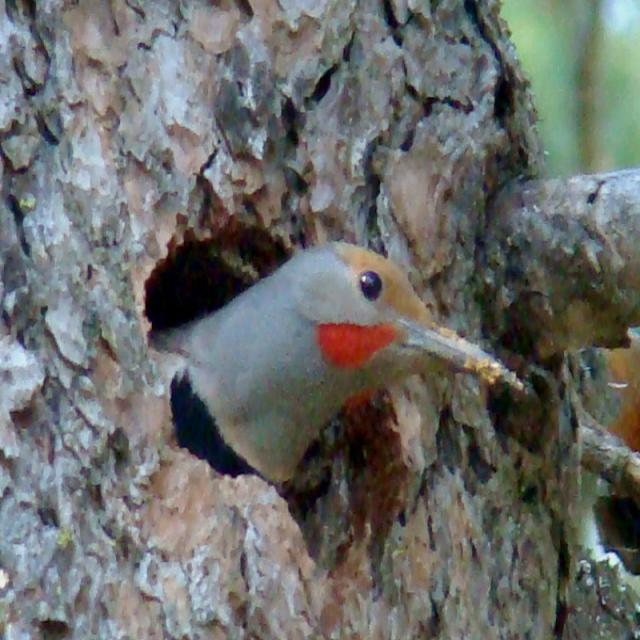bird: (163, 221, 534, 486)
